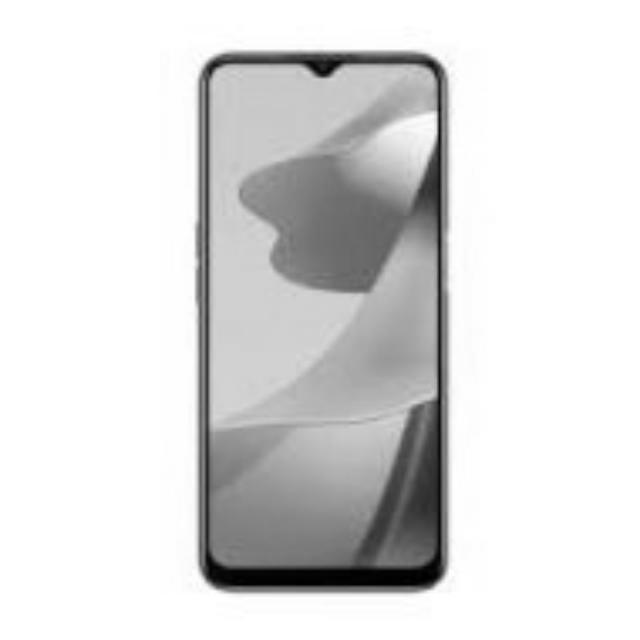fake: (188, 43, 456, 593)
